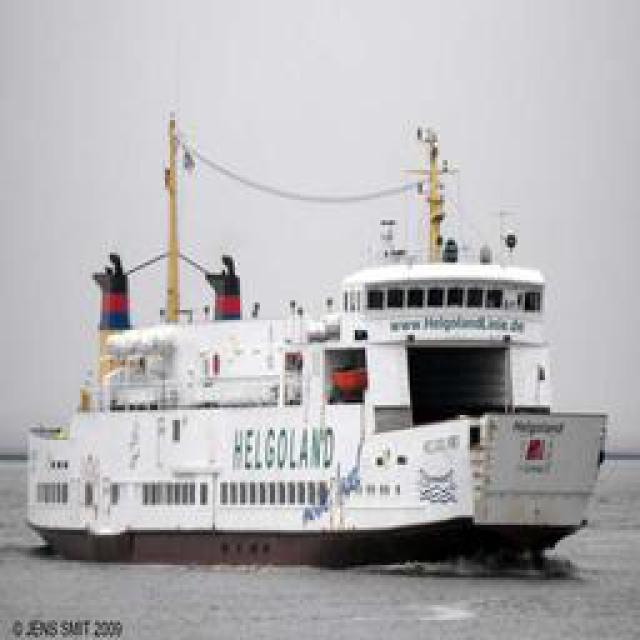Ship: (17, 230, 619, 574)
